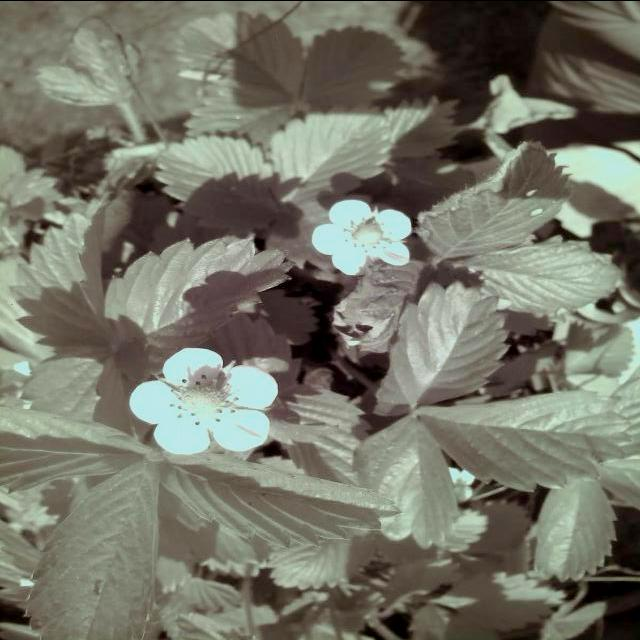flower: (126, 344, 290, 456), (312, 198, 414, 278)
